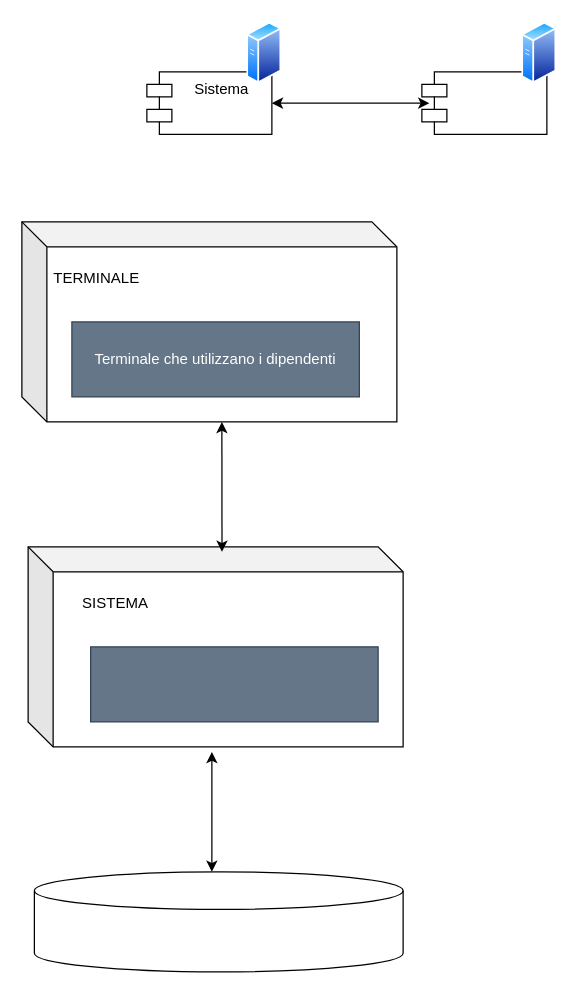
Some shapes in this 579 by 994 pixel diagram are drawn without their labels. The centre of each missing label's shape, as x and y in pixels:
"Database" belongs at point 484,102.
"DATABASE DBMSR: MySQR" belongs at point 218,921.
